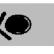correct: (4, 10, 34, 36)
